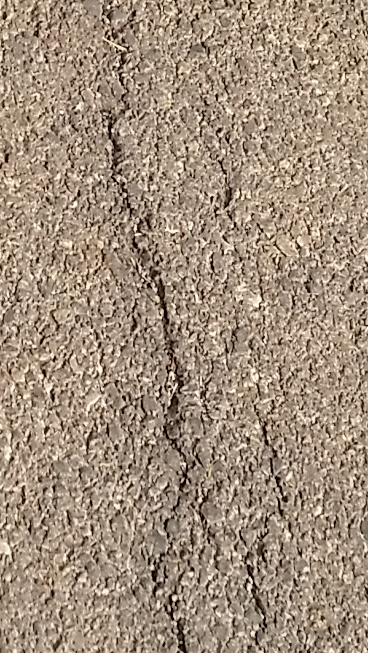A: (88, 4, 238, 653)
